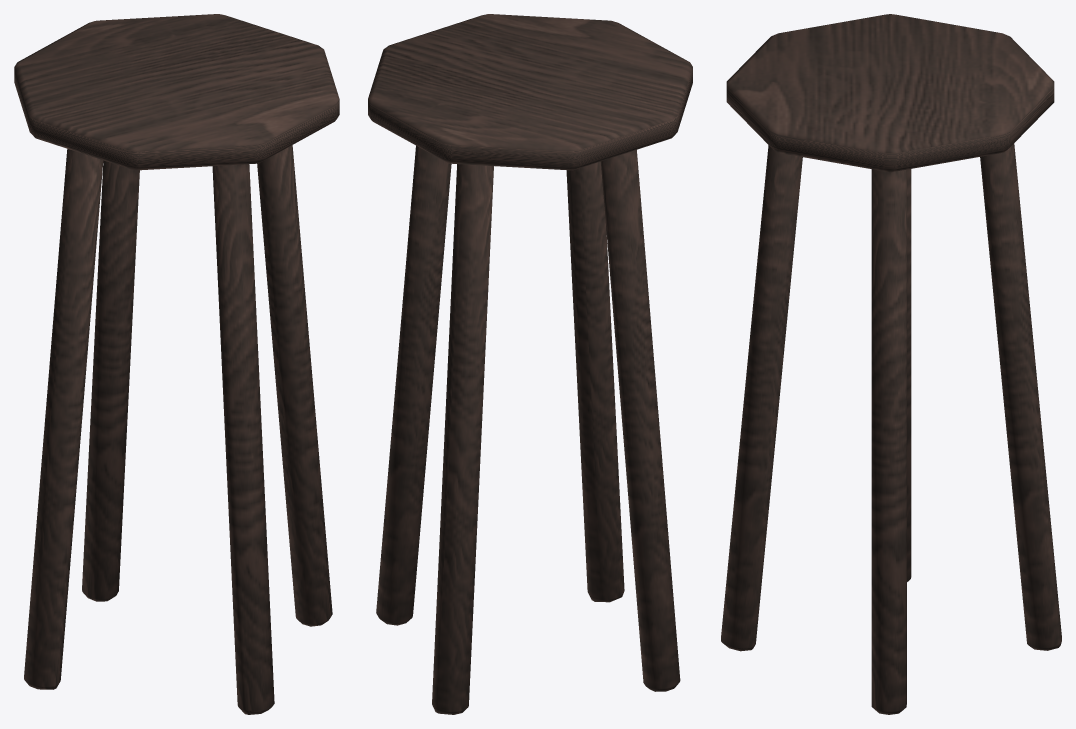
Rendered from barstool.obj.
3 renders of one model, left to right at view 1: azimuth 30°, elevation 25°; view 2: azimuth 150°, elevation 25°; view 3: azimuth 270°, elevation 25°, orthographic.
Visible parts, largest first — view 1: Cylinder.004; view 2: Cylinder.004; view 3: Cylinder.004.
Boxes of the visible parts, left/top/right/bottom form: Cylinder.004: left=14, top=14, right=339, bottom=714; Cylinder.004: left=368, top=14, right=692, bottom=714; Cylinder.004: left=721, top=14, right=1061, bottom=714.
Size of the model in its own units: 0.4669 by 0.8518 by 0.4667.
1 material, 1 textured.
